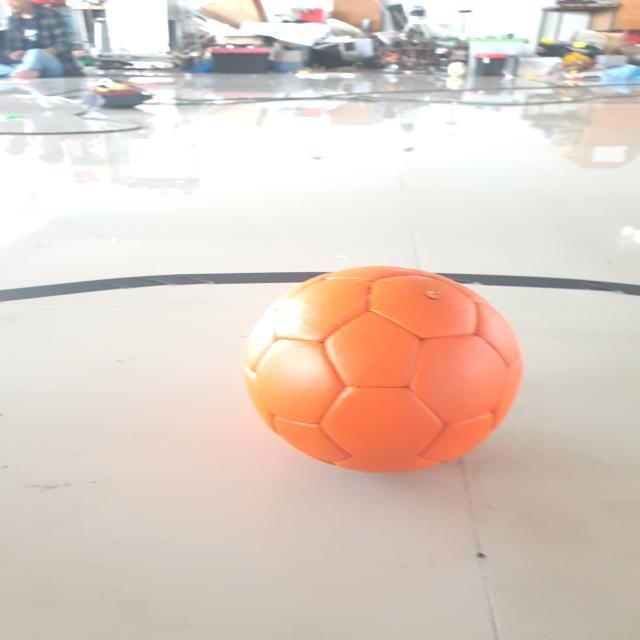bola: (232, 262, 534, 478)
